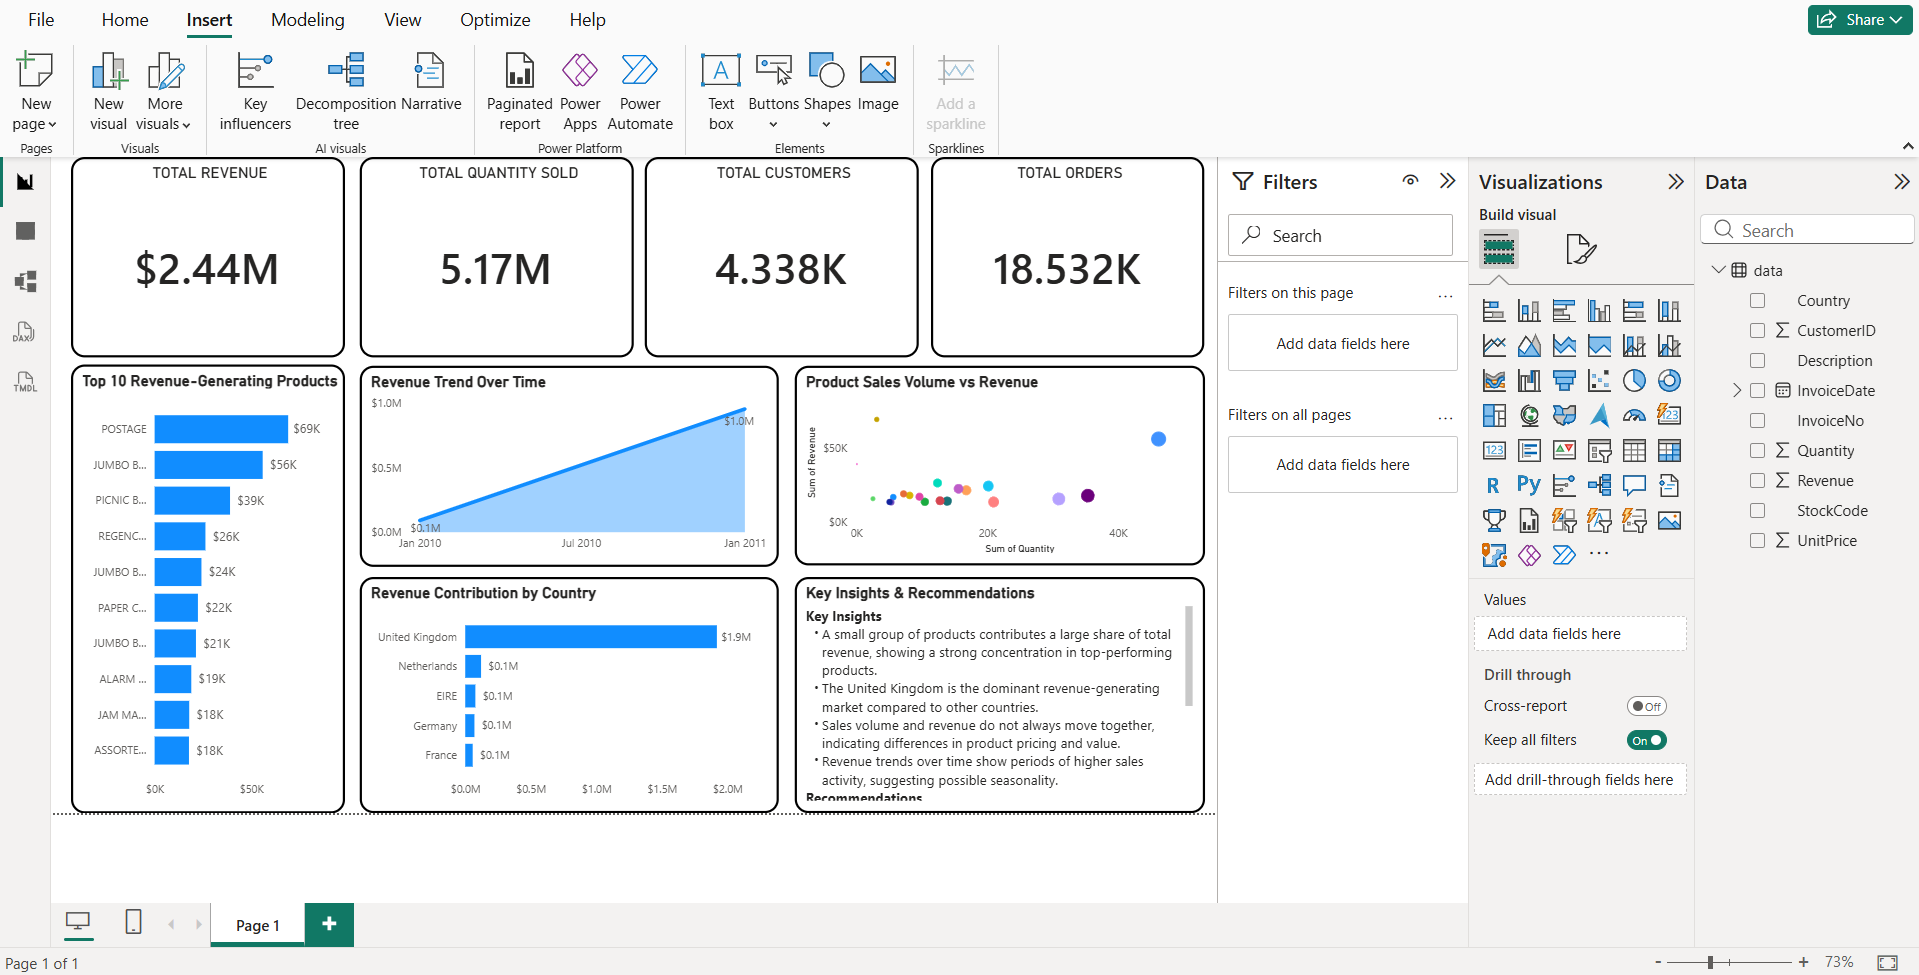

The page's visual inventory and layout, read from the dashboard file:
{"tool":"powerbi","page":{"name":"Page 1","canvas":[1280,720],"ordinal":0},"visuals":[{"type":"cardVisual","title":"TOTAL REVENUE","fields":{"Data":["Sum(data.Revenue)"]},"box":[22,0,300.5,220],"z":0},{"type":"cardVisual","title":"TOTAL ORDERS","fields":{"Data":["Count(data.InvoiceNo)"]},"box":[966,0,300,220],"z":1000},{"type":"cardVisual","title":"TOTAL CUSTOMERS","fields":{"Data":["Count(data.CustomerID)"]},"box":[651.8,0,300.5,220],"z":2000},{"type":"cardVisual","title":"TOTAL QUANTITY SOLD","fields":{"Data":["Sum(data.Quantity)"]},"box":[338.9,0,300.5,220],"z":3000},{"type":"clusteredBarChart","title":"Revenue Contribution by Country","fields":{"Category":["data.Country"],"Y":["Sum(data.Revenue)"]},"box":[338.9,461.1,459.7,259.3],"z":4000},{"type":"clusteredBarChart","title":"Top 10 Revenue-Generating Products","fields":{"Category":["data.Description"],"Y":["Sum(data.Revenue)"]},"box":[22,227.8,300.5,492.6],"z":5000},{"type":"scatterChart","title":"Product Sales Volume vs Revenue","fields":{"X":["Sum(data.Quantity)"],"Y":["Sum(data.Revenue)"],"Series":["data.Description"],"Size":["Sum(data.Quantity)"]},"box":[816.5,229.2,450.1,219.6],"z":6000},{"type":"lineChart","title":"Revenue Trend Over Time","fields":{"Category":["data.InvoiceDate.Variation.Date Hierarchy.Year","data.InvoiceDate.Variation.Date Hierarchy.Quarter","data.InvoiceDate.Variation.Date Hierarchy.Month","data.InvoiceDate.Variation.Date Hierarchy.Day"],"Y":["Sum(data.Revenue)"]},"box":[338.9,229.2,460,220.9],"z":6001},{"type":"textbox","title":"Key Insights & Recommendations","box":[816,461,450,259],"z":6002}]}

Visuals, with their boxes on the page's 1280x720 design canvas (x1, y1, x2, y2). These are canvas units, not pixel positions in the 1919x975 screenshot, which may show the page scaled, cropped or inside an application window:
"TOTAL REVENUE" cardVisual: <region>22, 0, 322, 220</region>
"TOTAL ORDERS" cardVisual: <region>966, 0, 1266, 220</region>
"TOTAL CUSTOMERS" cardVisual: <region>652, 0, 952, 220</region>
"TOTAL QUANTITY SOLD" cardVisual: <region>339, 0, 639, 220</region>
"Revenue Contribution by Country" clusteredBarChart: <region>339, 461, 799, 720</region>
"Top 10 Revenue-Generating Products" clusteredBarChart: <region>22, 228, 322, 720</region>
"Product Sales Volume vs Revenue" scatterChart: <region>816, 229, 1267, 449</region>
"Revenue Trend Over Time" lineChart: <region>339, 229, 799, 450</region>
"Key Insights & Recommendations" textbox: <region>816, 461, 1266, 720</region>
